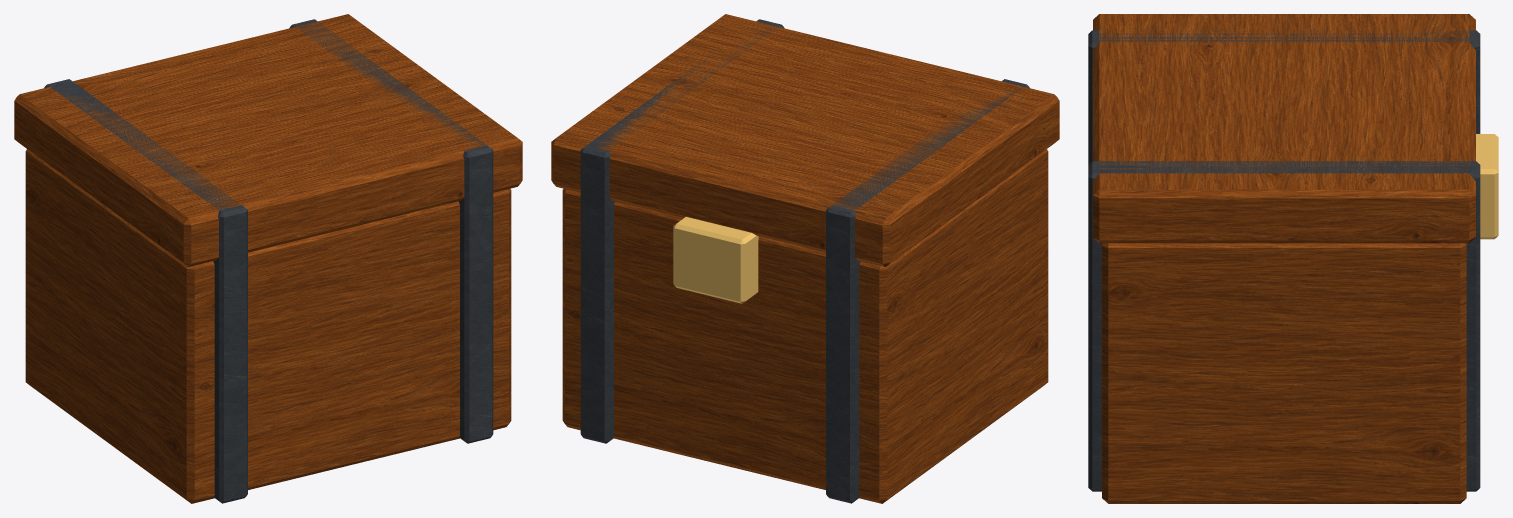
File: train_toolbox.gltf
3 renders of one model, left to right at view 1: azimuth 30°, elevation 25°; view 2: azimuth 150°, elevation 25°; view 3: azimuth 270°, elevation 25°, orthographic. The views are drawn at different scales.
Size of the model in its own units: 0.94 by 0.77 by 0.9.
3 materials, 2 textured.
